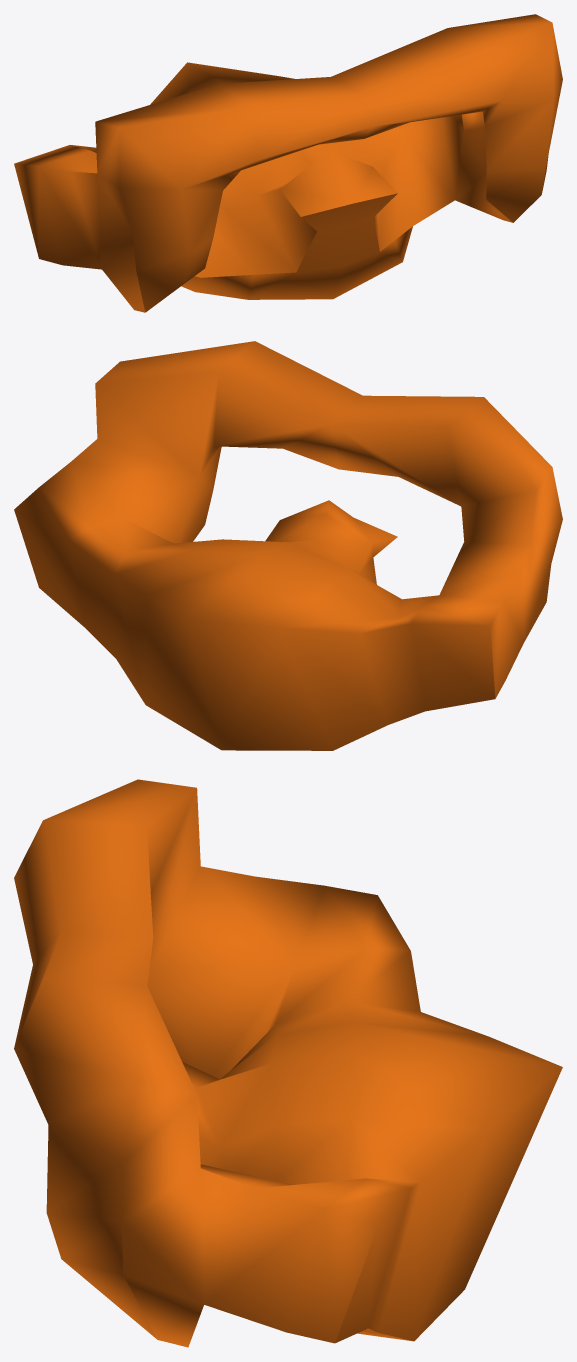
Rendered from Beard_Orange_7.fbx.
3 renders of one model, top to bottom at view 1: azimuth 30°, elevation 25°; view 2: azimuth 150°, elevation 25°; view 3: azimuth 270°, elevation 25°, orthographic. The views are drawn at different scales.
Visible parts, largest first — view 1: Beard_Orange_7; view 2: Beard_Orange_7; view 3: Beard_Orange_7.
Part boxes in pixels (x1,y1,x2,y2): Beard_Orange_7: (14, 14, 562, 312); Beard_Orange_7: (14, 341, 562, 750); Beard_Orange_7: (14, 779, 562, 1347).
Bounding box in the file's own units: 25.35 × 13.89 × 17.74.
